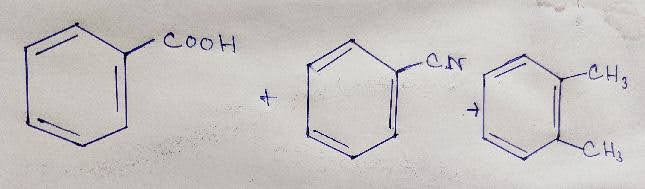Benzoic Acid(C7H6O2): (23, 18, 240, 148)
Benzonitrile(C7H5N): (304, 37, 464, 161)
Ortho-Xylene(C8H10): (481, 52, 629, 165)
